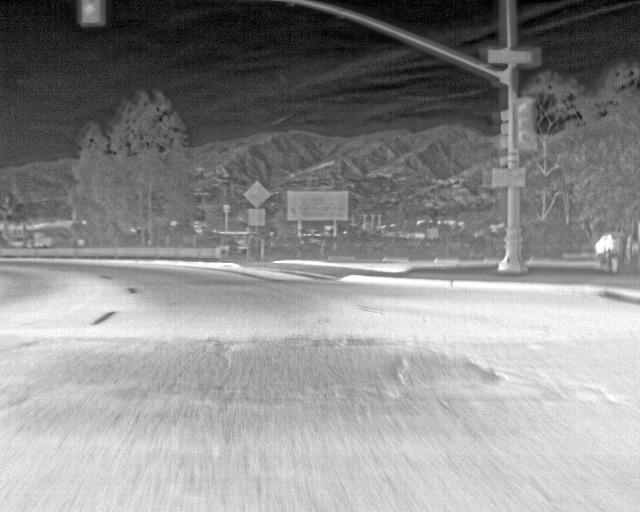car: (595, 233, 623, 253)
light: (518, 102, 534, 143), (81, 0, 101, 24), (500, 109, 509, 148), (492, 168, 507, 187), (512, 169, 525, 187)
sign: (288, 192, 349, 221), (244, 181, 271, 208), (488, 49, 532, 64), (248, 208, 265, 226)
